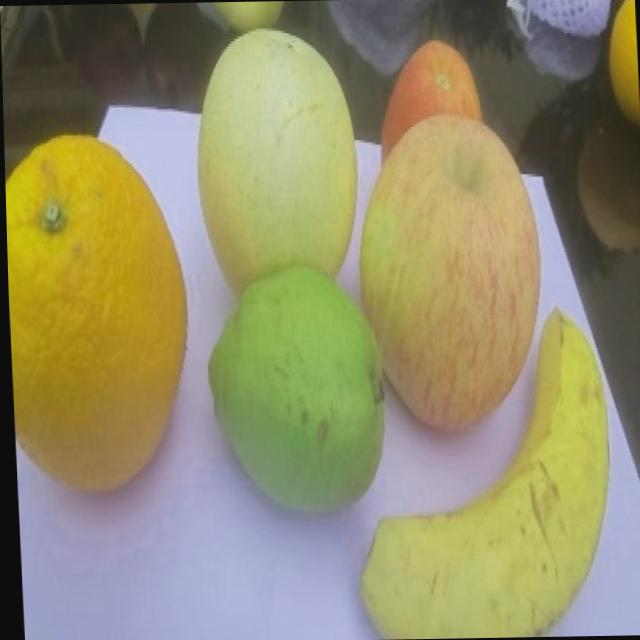Apple: (351, 110, 547, 434), (375, 37, 485, 167)
Banana: (345, 304, 615, 638)
Orange: (3, 130, 193, 492)
